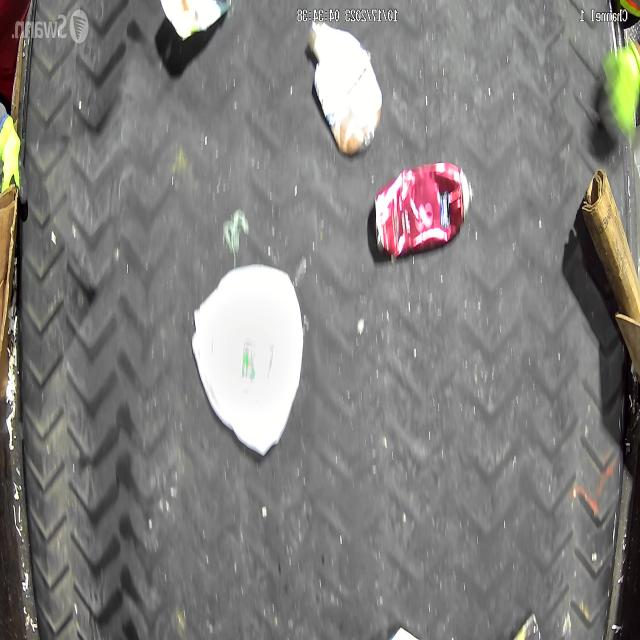can: (374, 161, 474, 258)
milk_jug: (192, 259, 303, 456)
